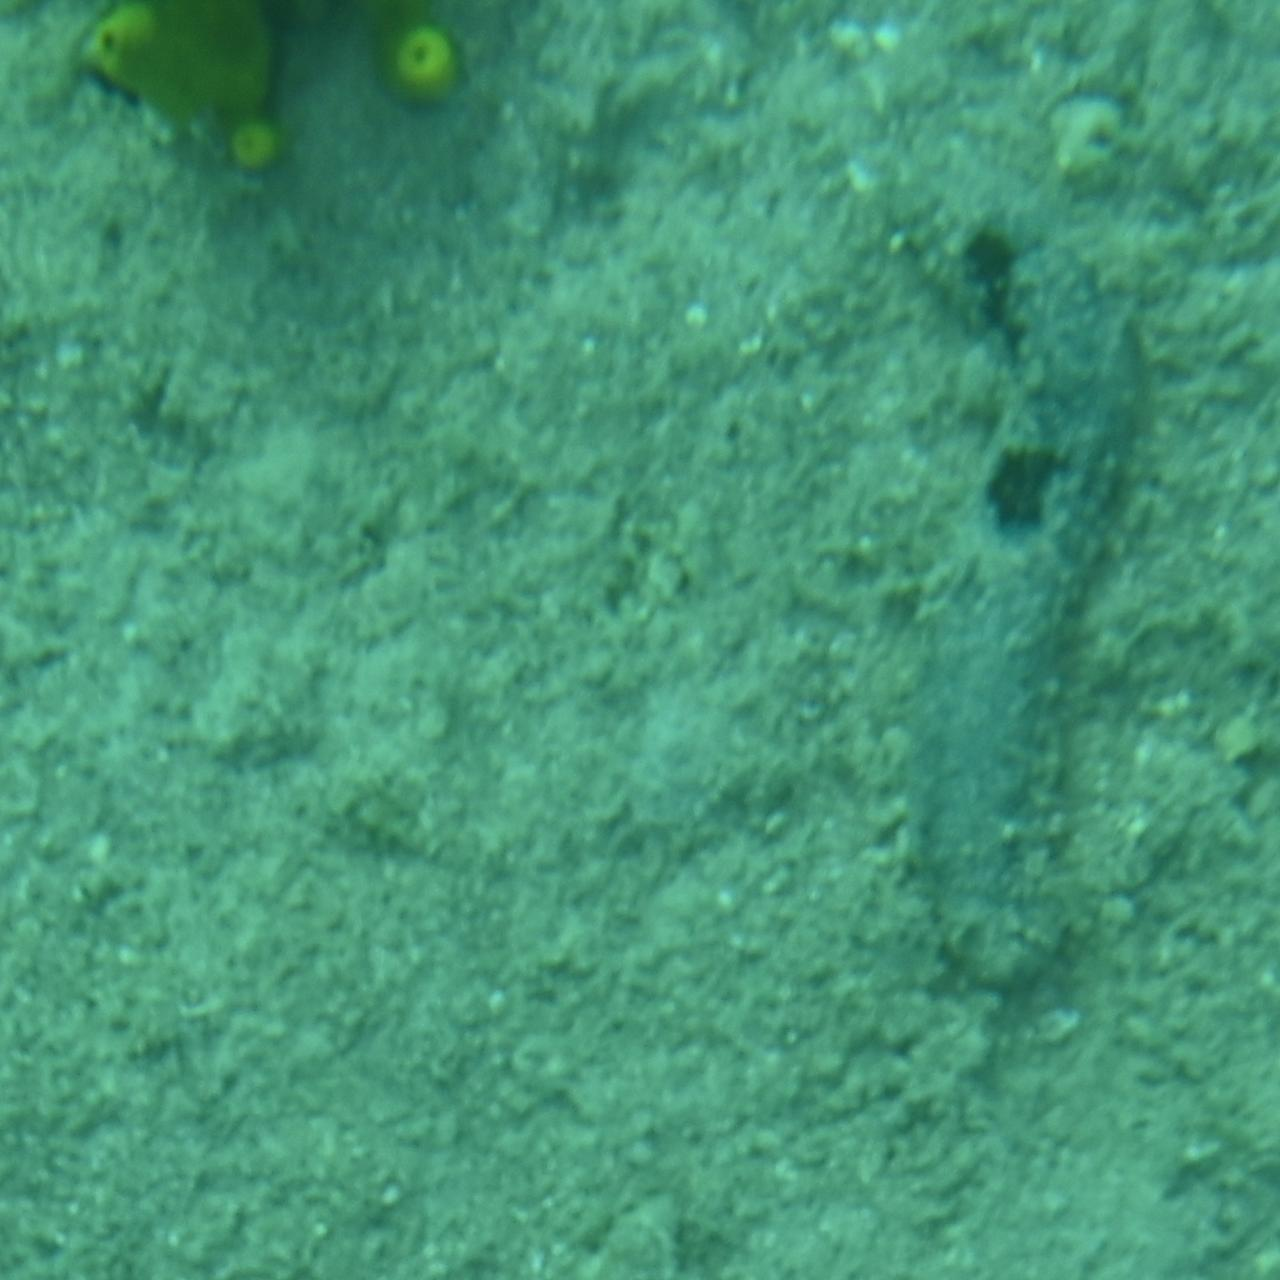Aplysina aerophoba: (40, 11, 484, 190)
Holothuria tubulosa: (865, 159, 1171, 1023)
